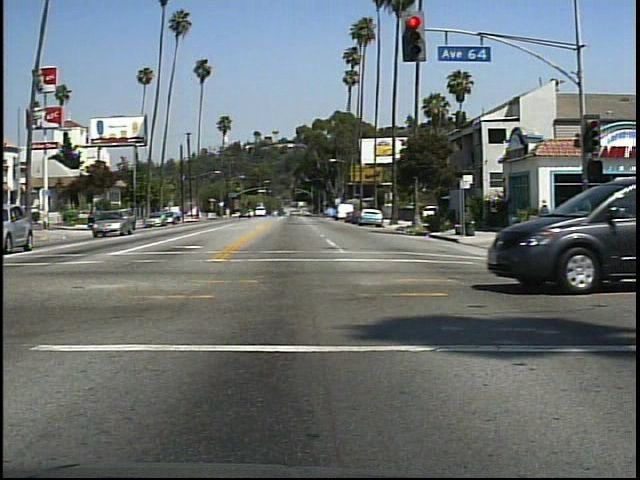person: (538, 194, 556, 219)
